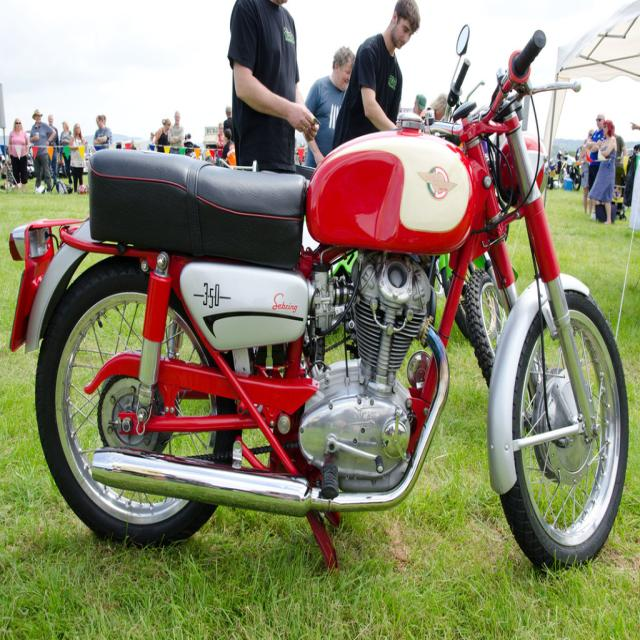Motorbikes: (6, 21, 632, 589)
